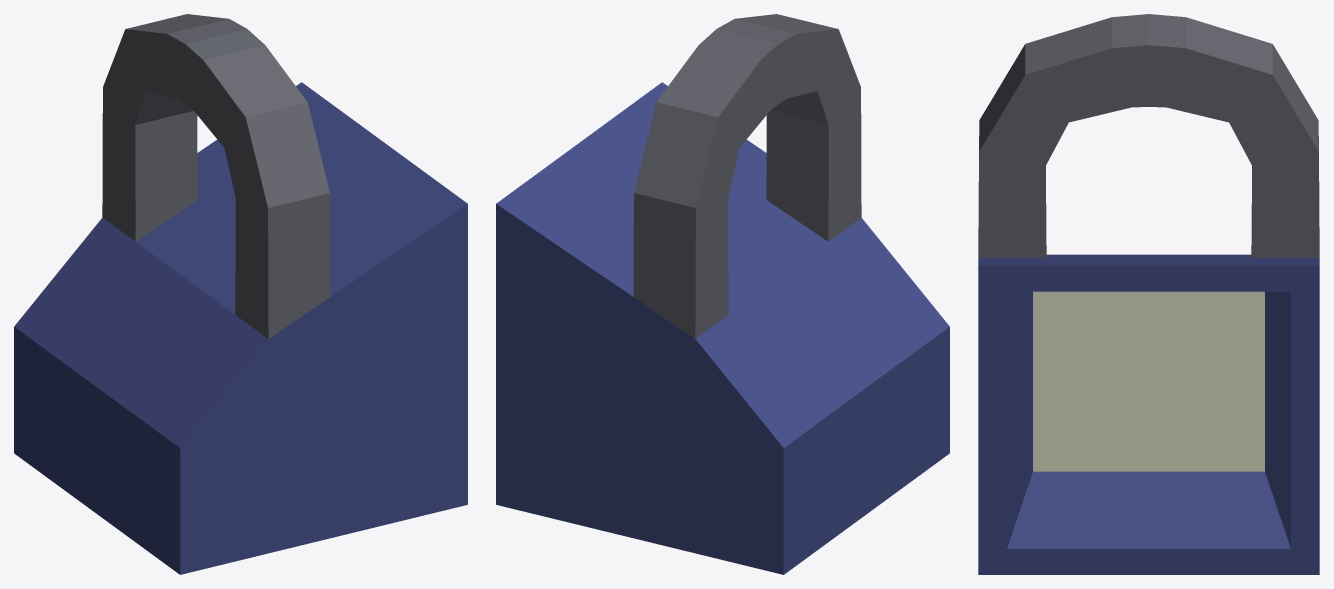
The model's file is lamp.fbx.
The picture shows the model from 3 angles, left to right: view 1: azimuth 30°, elevation 25°; view 2: azimuth 150°, elevation 25°; view 3: azimuth 270°, elevation 25°; orthographic projection. The views are drawn at different scales.
Visible parts, largest first — view 1: Cube; view 2: Cube; view 3: Cube.
Part boxes in pixels (x1=…): Cube: x1=14, y1=14, x2=467, y2=574; Cube: x1=496, y1=14, x2=949, y2=574; Cube: x1=978, y1=14, x2=1319, y2=574.
Bounding box in the file's own units: 0.5769 × 0.8595 × 0.5769.
